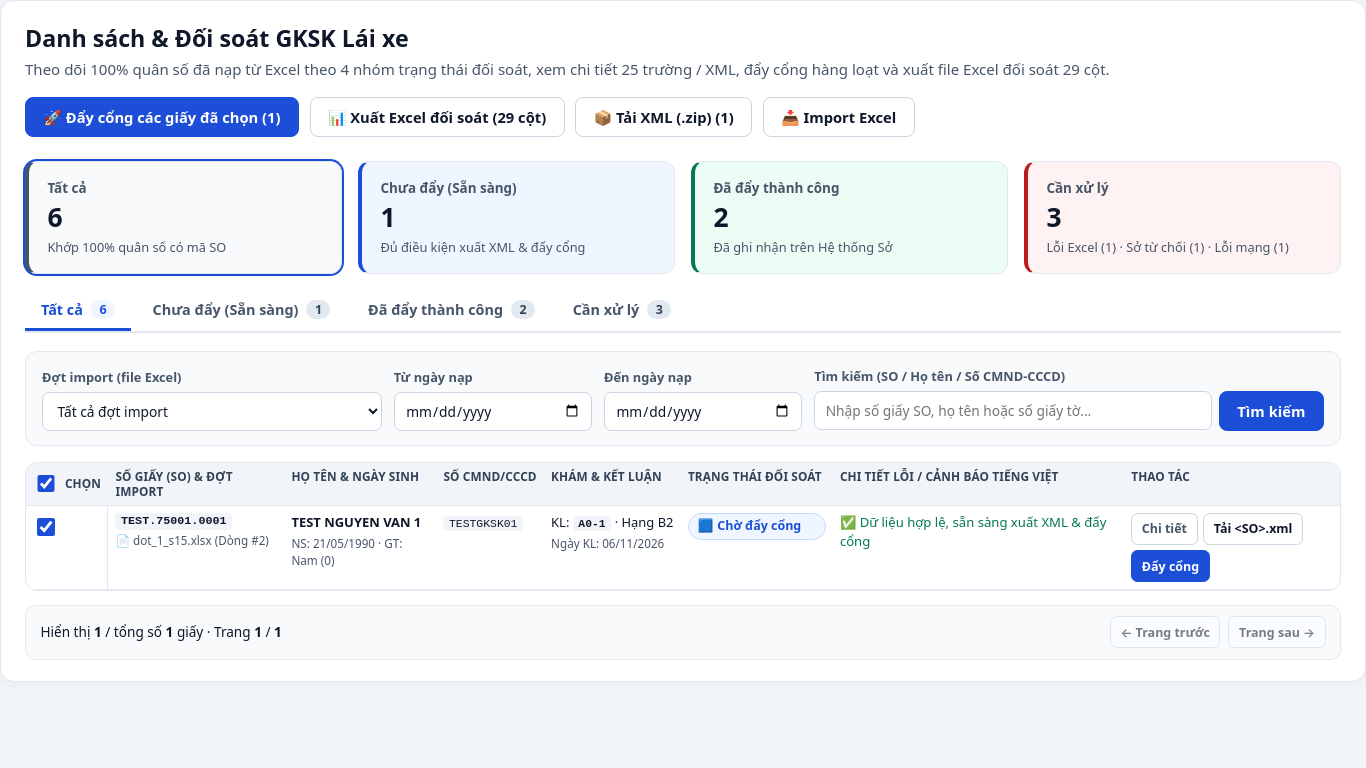
Test: S15 — StatusBadge, ReconcileSummary & ListPage (Danh sách & Đối soát, Xuất XML/ZIP/Excel) › 3. Chuyển tab đối soát, lọc con trong tab Cần xử lý, lọc theo Đợt import Excel và tìm kiếm gọi đúng query GET /api/certificates
Later steps or results of the test are not shown.
Check: the table with test id "reconcile-table" is shown, box x1=26 y1=463 x2=1340 y2=590
# Chuyển sang tab Đã đẩy thành công (accepted)
Click the tab with test id "tab-btn-accepted": point(452, 310) x1=352 y1=288 x2=551 y2=331
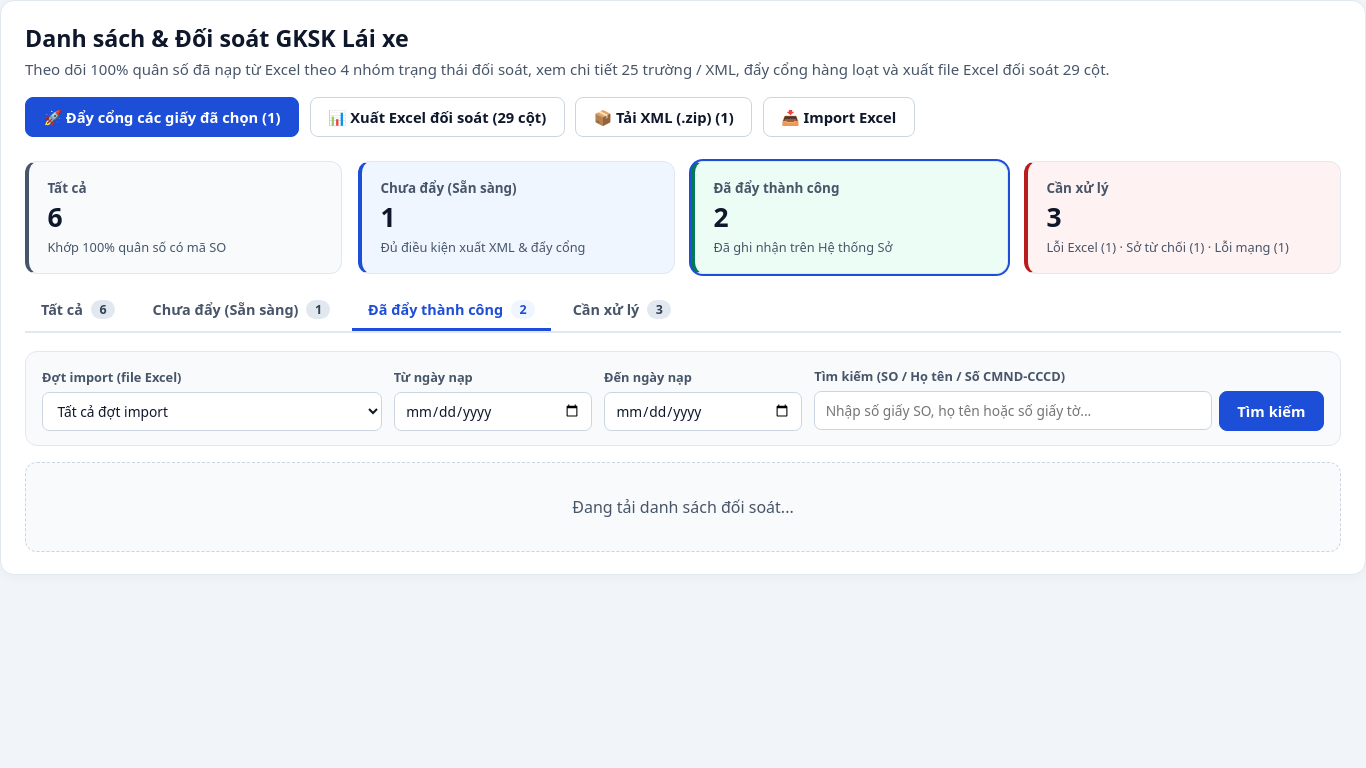
Click the tab with test id "tab-btn-attention": point(622, 310) x1=557 y1=288 x2=687 y2=331
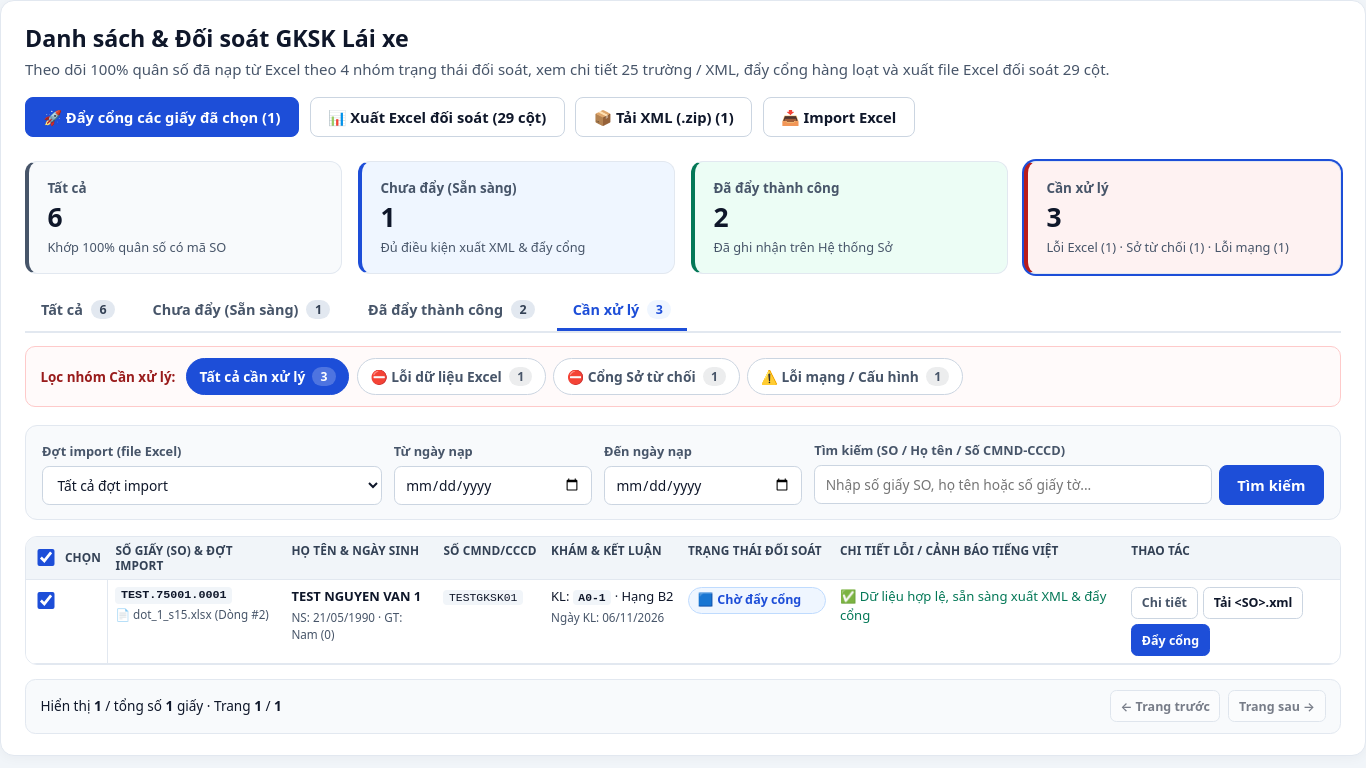
Check: the element with test id "attention-subfilter-bar" is shown, box x1=25 y1=346 x2=1341 y2=407
